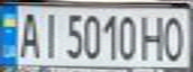0: (118, 11, 142, 61), (81, 11, 103, 61)
1: (100, 11, 121, 61)
5: (60, 10, 84, 60)
A: (15, 8, 42, 60)
H: (136, 11, 169, 62)
I: (36, 9, 60, 60)
O: (160, 11, 190, 62)
